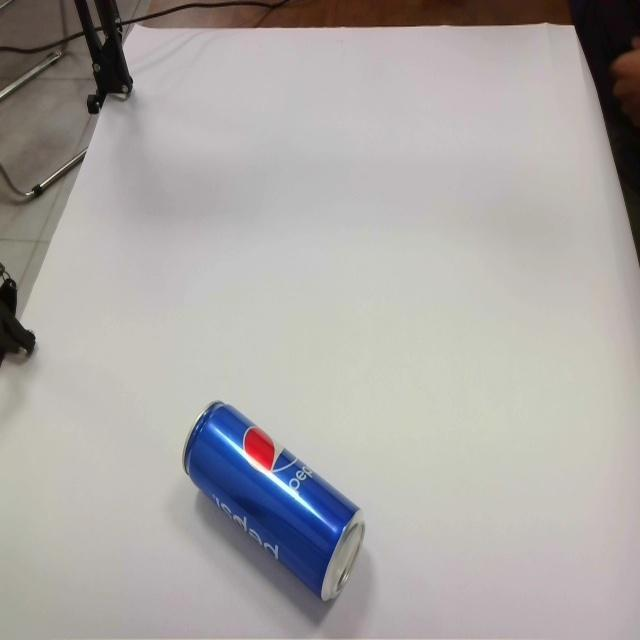debris: (182, 399, 367, 602)
